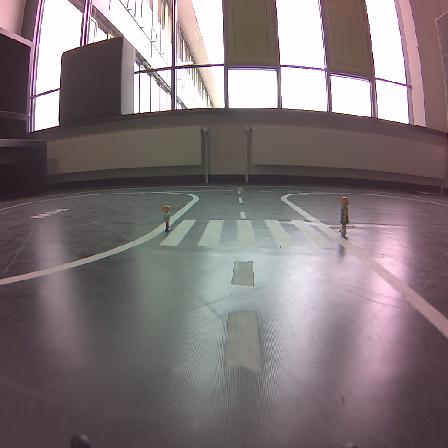CHILD: (162, 205, 169, 231)
PERSON: (340, 196, 348, 236)
